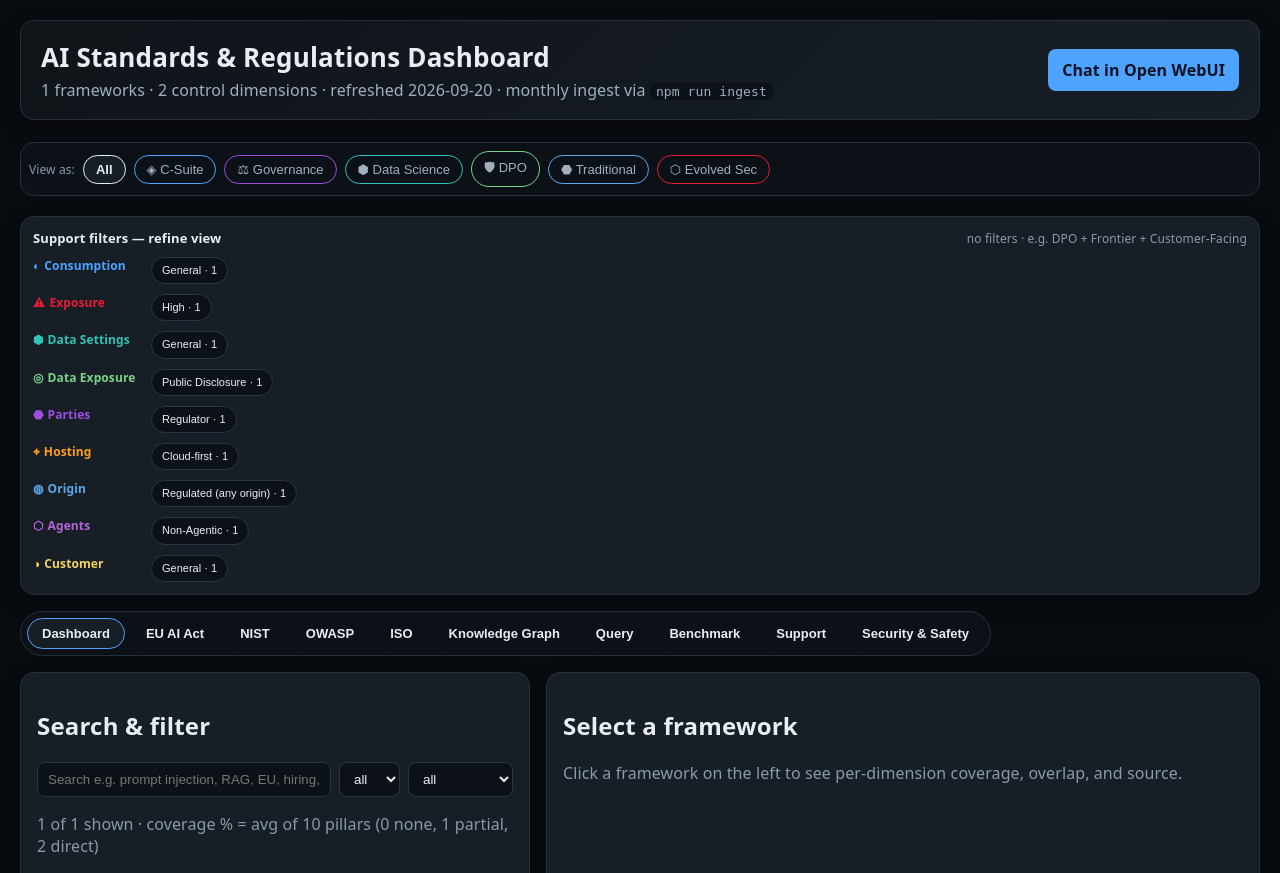
Test case: App › lazy-loads the Knowledge Graph view on demand
Click the tab "Knowledge Graph". click: [504, 633]
box: [434,618,575,649]
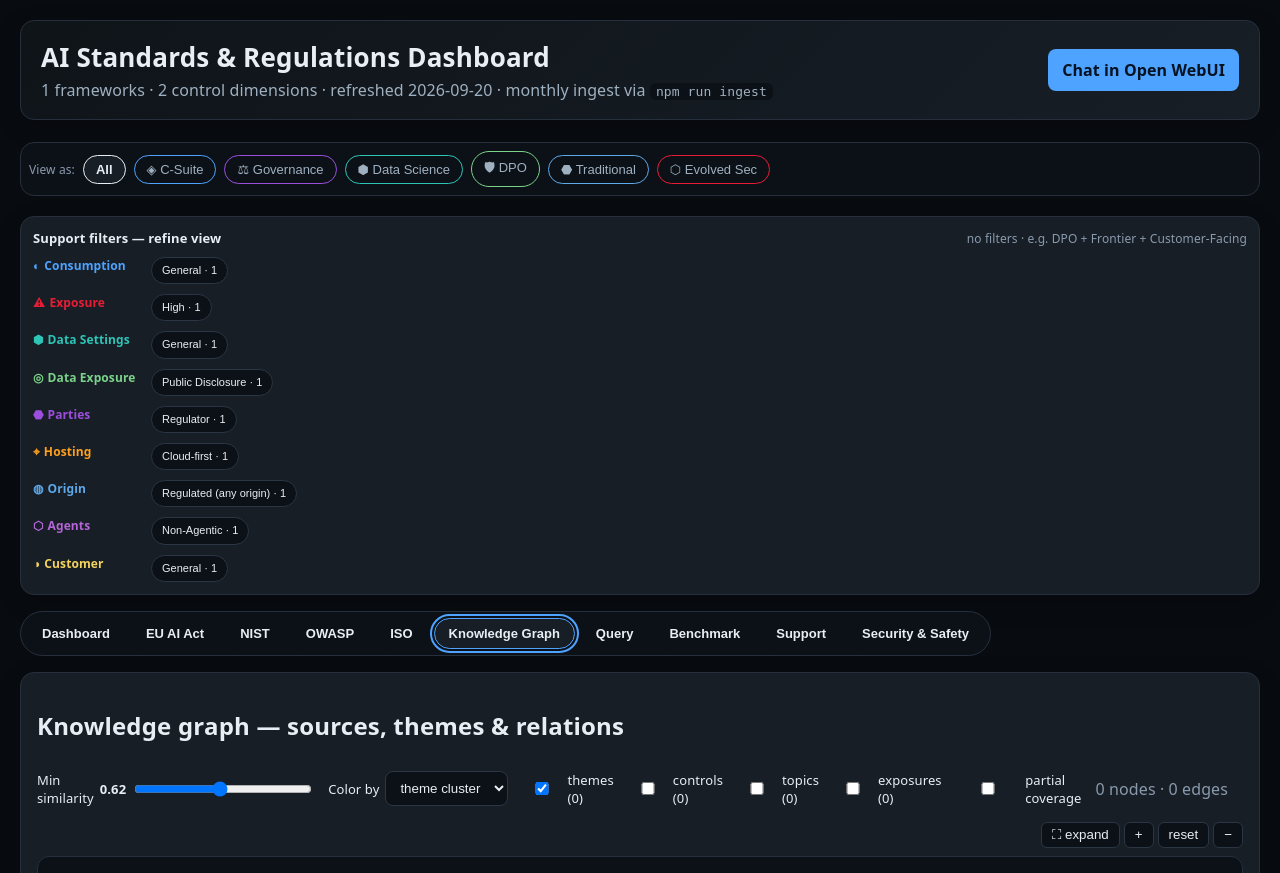
Check: the heading "Knowledge graph — sources, themes & relations" is shown, box [37,709,624,742]
